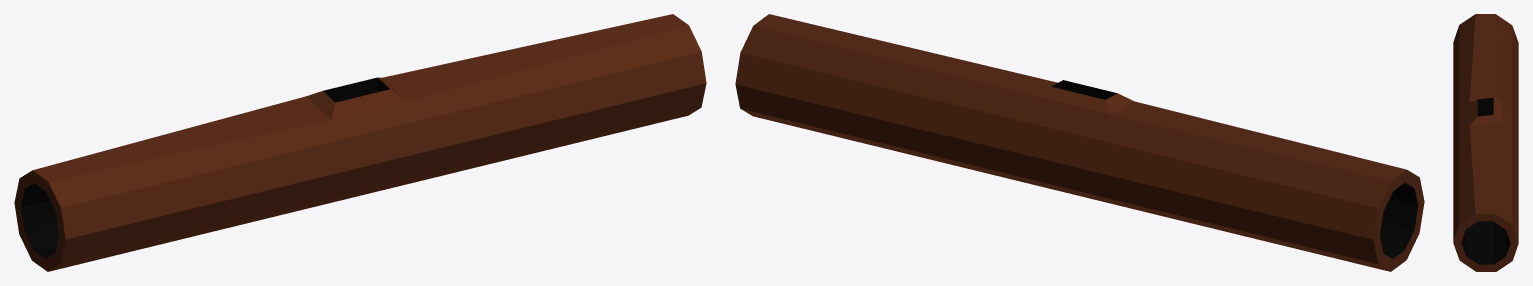
Rendered from fallen_log.gltf.
3 renders of one model, left to right at view 1: azimuth 30°, elevation 25°; view 2: azimuth 150°, elevation 25°; view 3: azimuth 270°, elevation 25°, orthographic. The views are drawn at different scales.
Visible parts, largest first — view 1: cylinder; view 2: cylinder; view 3: cylinder.
Boxes of the visible parts, <box> form: cylinder: <box>14,14,706,271</box>; cylinder: <box>735,14,1424,271</box>; cylinder: <box>1453,14,1518,271</box>.
Size of the model in its own units: 4.75 by 0.7142 by 0.659.
Materials: 1 (1 with a texture image).
